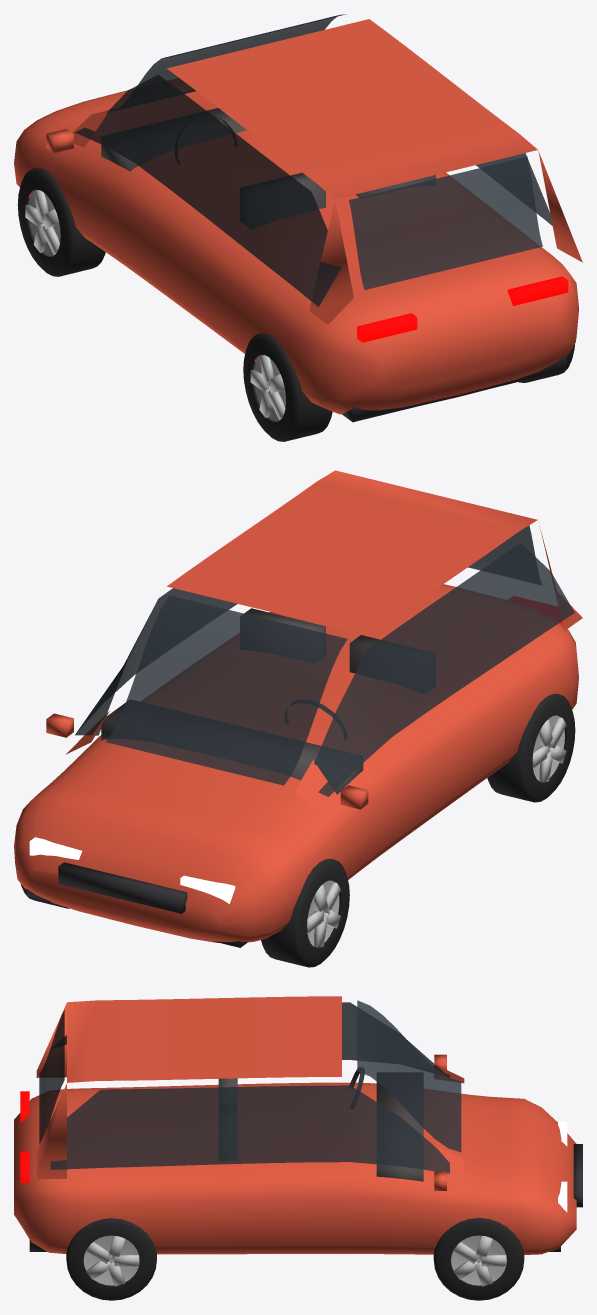
The model's file is tr01_compact.glb.
3 renders of one model, top to bottom at view 1: azimuth 30°, elevation 25°; view 2: azimuth 150°, elevation 25°; view 3: azimuth 270°, elevation 25°, orthographic. The views are drawn at different scales.
Parts seen in each view (by area): view 1: tr01_compact_Body, tr01_compact_Cabin, tr01_compact_Glass, tr01_compact_GlassRear, tr01_compact_Interior, tr01_compact_Wheel_RL, tr01_compact_Wheel_FL, tr01_compact_GlassFront, tr01_compact_Lights_Rear; view 2: tr01_compact_Body, tr01_compact_Cabin, tr01_compact_GlassFront, tr01_compact_Glass, tr01_compact_Interior, tr01_compact_Wheel_FL, tr01_compact_Wheel_RL, tr01_compact_Lights_Front, tr01_compact_GlassRear; view 3: tr01_compact_Body, tr01_compact_Glass, tr01_compact_Cabin, tr01_compact_GlassFront, tr01_compact_Interior, tr01_compact_Wheel_FR, tr01_compact_Wheel_RR, tr01_compact_GlassRear, tr01_compact_Lights_Rear, tr01_compact_Lights_Front.
Part boxes in pixels (x1=…): tr01_compact_Body: x1=14, y1=78, x2=578, y2=422; tr01_compact_Cabin: x1=72, y1=19, x2=582, y2=324; tr01_compact_Glass: x1=75, y1=74, x2=552, y2=306; tr01_compact_GlassRear: x1=349, y1=156, x2=542, y2=289; tr01_compact_Interior: x1=101, y1=108, x2=435, y2=228; tr01_compact_Wheel_RL: x1=243, y1=333, x2=332, y2=441; tr01_compact_Wheel_FL: x1=17, y1=168, x2=105, y2=276; tr01_compact_GlassFront: x1=106, y1=14, x2=345, y2=110; tr01_compact_Lights_Rear: x1=357, y1=276, x2=568, y2=342; tr01_compact_Body: x1=14, y1=584, x2=578, y2=947; tr01_compact_Cabin: x1=65, y1=470, x2=582, y2=816; tr01_compact_GlassFront: x1=105, y1=595, x2=347, y2=785; tr01_compact_Glass: x1=75, y1=542, x2=574, y2=796; tr01_compact_Interior: x1=101, y1=608, x2=435, y2=794; tr01_compact_Wheel_FL: x1=261, y1=859, x2=349, y2=967; tr01_compact_Wheel_RL: x1=487, y1=694, x2=575, y2=802; tr01_compact_Lights_Front: x1=29, y1=837, x2=235, y2=903; tr01_compact_GlassRear: x1=468, y1=525, x2=535, y2=570; tr01_compact_Body: x1=14, y1=1054, x2=582, y2=1254; tr01_compact_Glass: x1=50, y1=1002, x2=449, y2=1173; tr01_compact_Cabin: x1=36, y1=996, x2=464, y2=1184; tr01_compact_GlassFront: x1=357, y1=1000, x2=461, y2=1152; tr01_compact_Interior: x1=218, y1=1073, x2=423, y2=1181; tr01_compact_Wheel_FR: x1=433, y1=1218, x2=524, y2=1300; tr01_compact_Wheel_RR: x1=66, y1=1218, x2=156, y2=1300; tr01_compact_GlassRear: x1=39, y1=1009, x2=64, y2=1143; tr01_compact_Lights_Rear: x1=20, y1=1091, x2=29, y2=1182; tr01_compact_Lights_Front: x1=558, y1=1121, x2=567, y2=1211.
Size of what is drawn, in the model's own units: 1.89 by 1.49 by 3.64.
